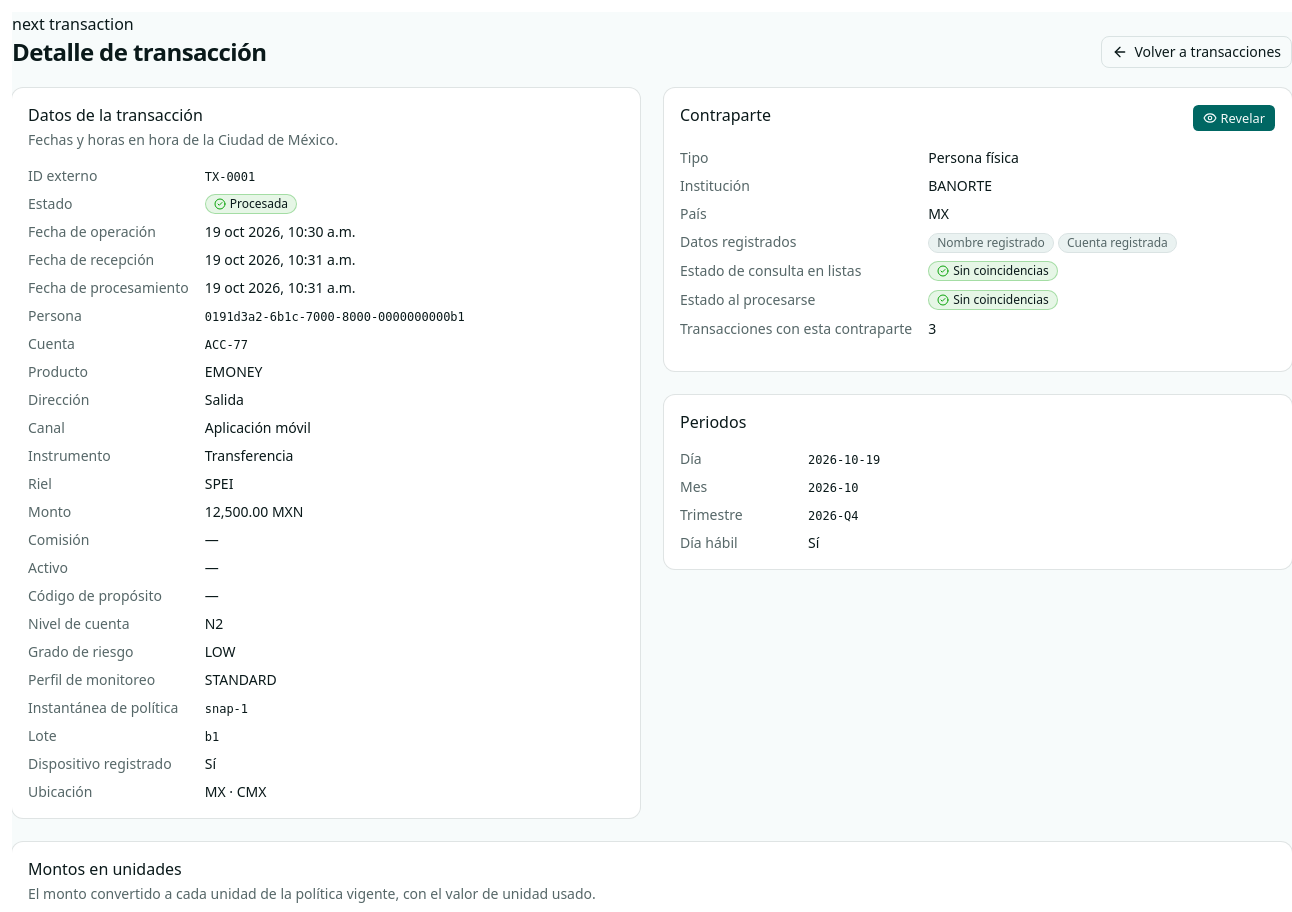
TransactionPage › fetches the reveal past the browser cache
The image size is (1292, 912).
Check: the text "TX-0001" is shown, box [205,170,255,184]
Click the button "Revelar".
click(1234, 118)  # box [1192,104,1276,132]
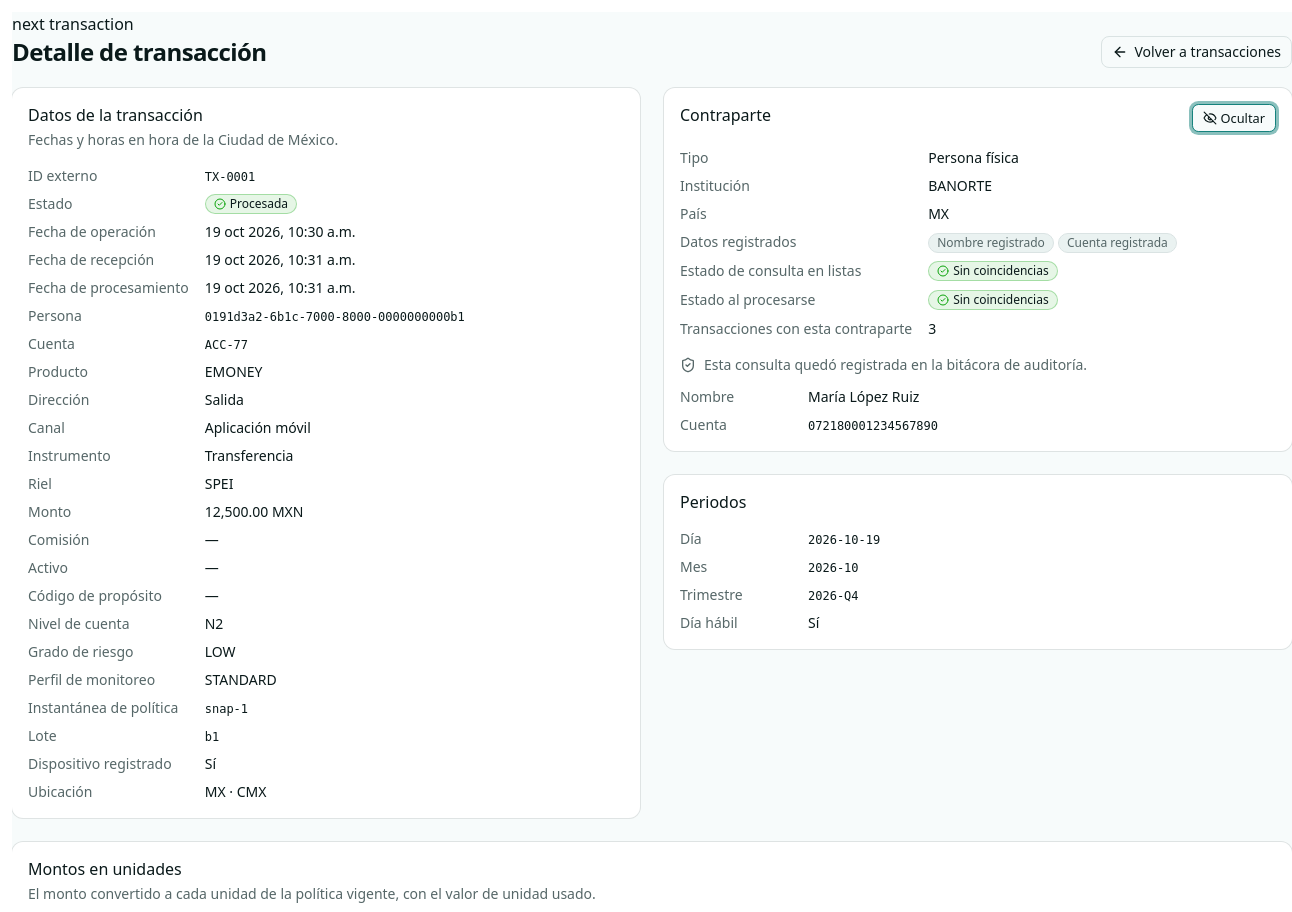
Check: the text "María López Ruiz" is shown, box [808,387,919,406]
